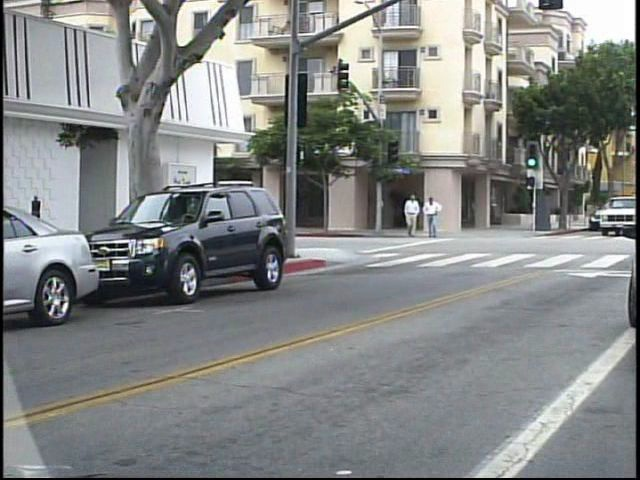person: (421, 192, 443, 242), (399, 190, 419, 243)
